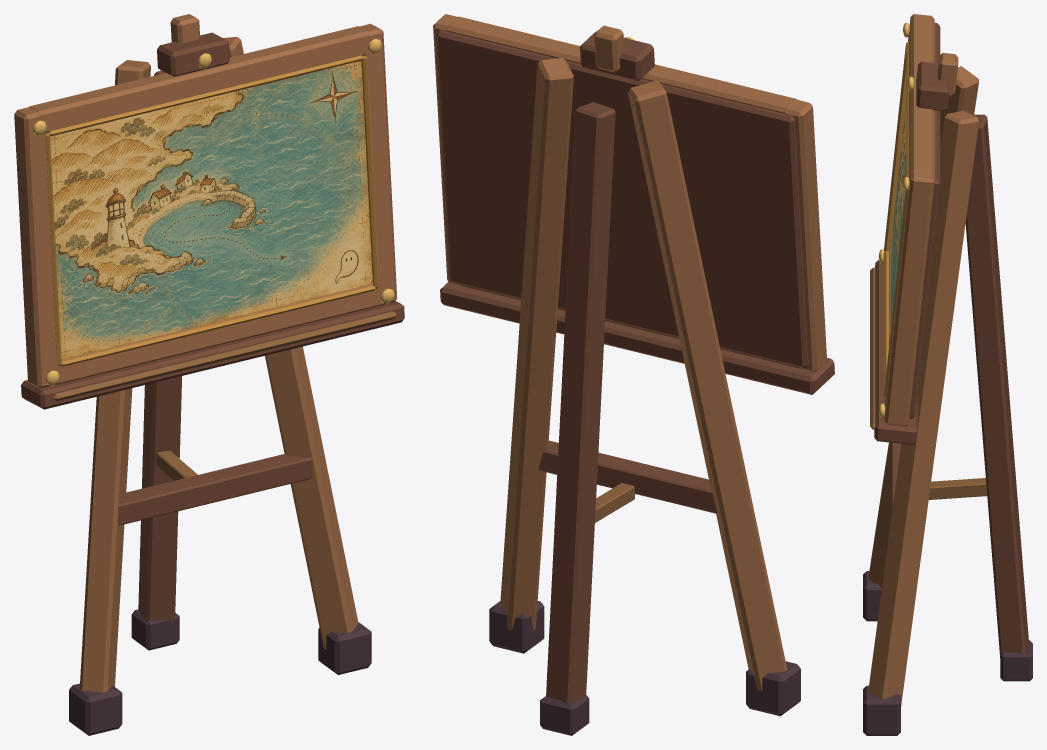
File: sea_chart.glb
3 views of the same model, side by side, from view 1: azimuth 30°, elevation 25°; view 2: azimuth 150°, elevation 25°; view 3: azimuth 270°, elevation 25° (orthographic). The views are drawn at different scales.
Visible parts, largest first — view 1: sea_chart; view 2: sea_chart; view 3: sea_chart.
Part boxes in pixels (x1=…): sea_chart: x1=14, y1=14, x2=404, y2=735; sea_chart: x1=433, y1=14, x2=834, y2=735; sea_chart: x1=863, y1=14, x2=1032, y2=735.
Bounding box in the file's own units: 0.7 × 1.2 × 0.3.
7 materials, 1 textured.
